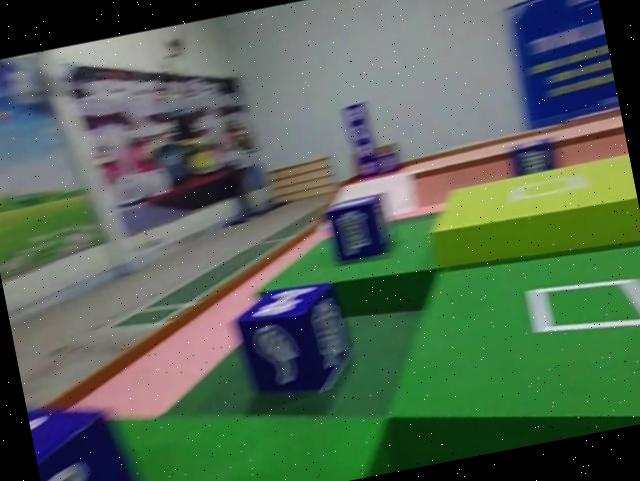R2 Fake Blue: (233, 279, 361, 407), (25, 379, 166, 481), (325, 192, 396, 265)
